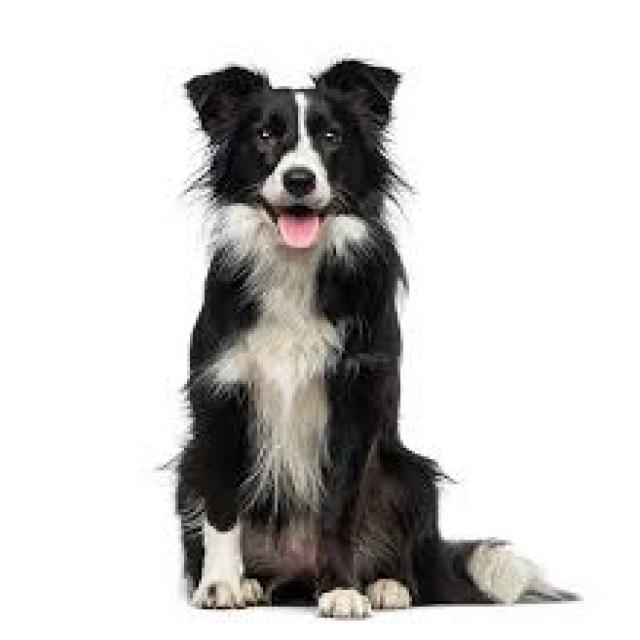BORDER_COLLIE: (150, 40, 593, 624)
